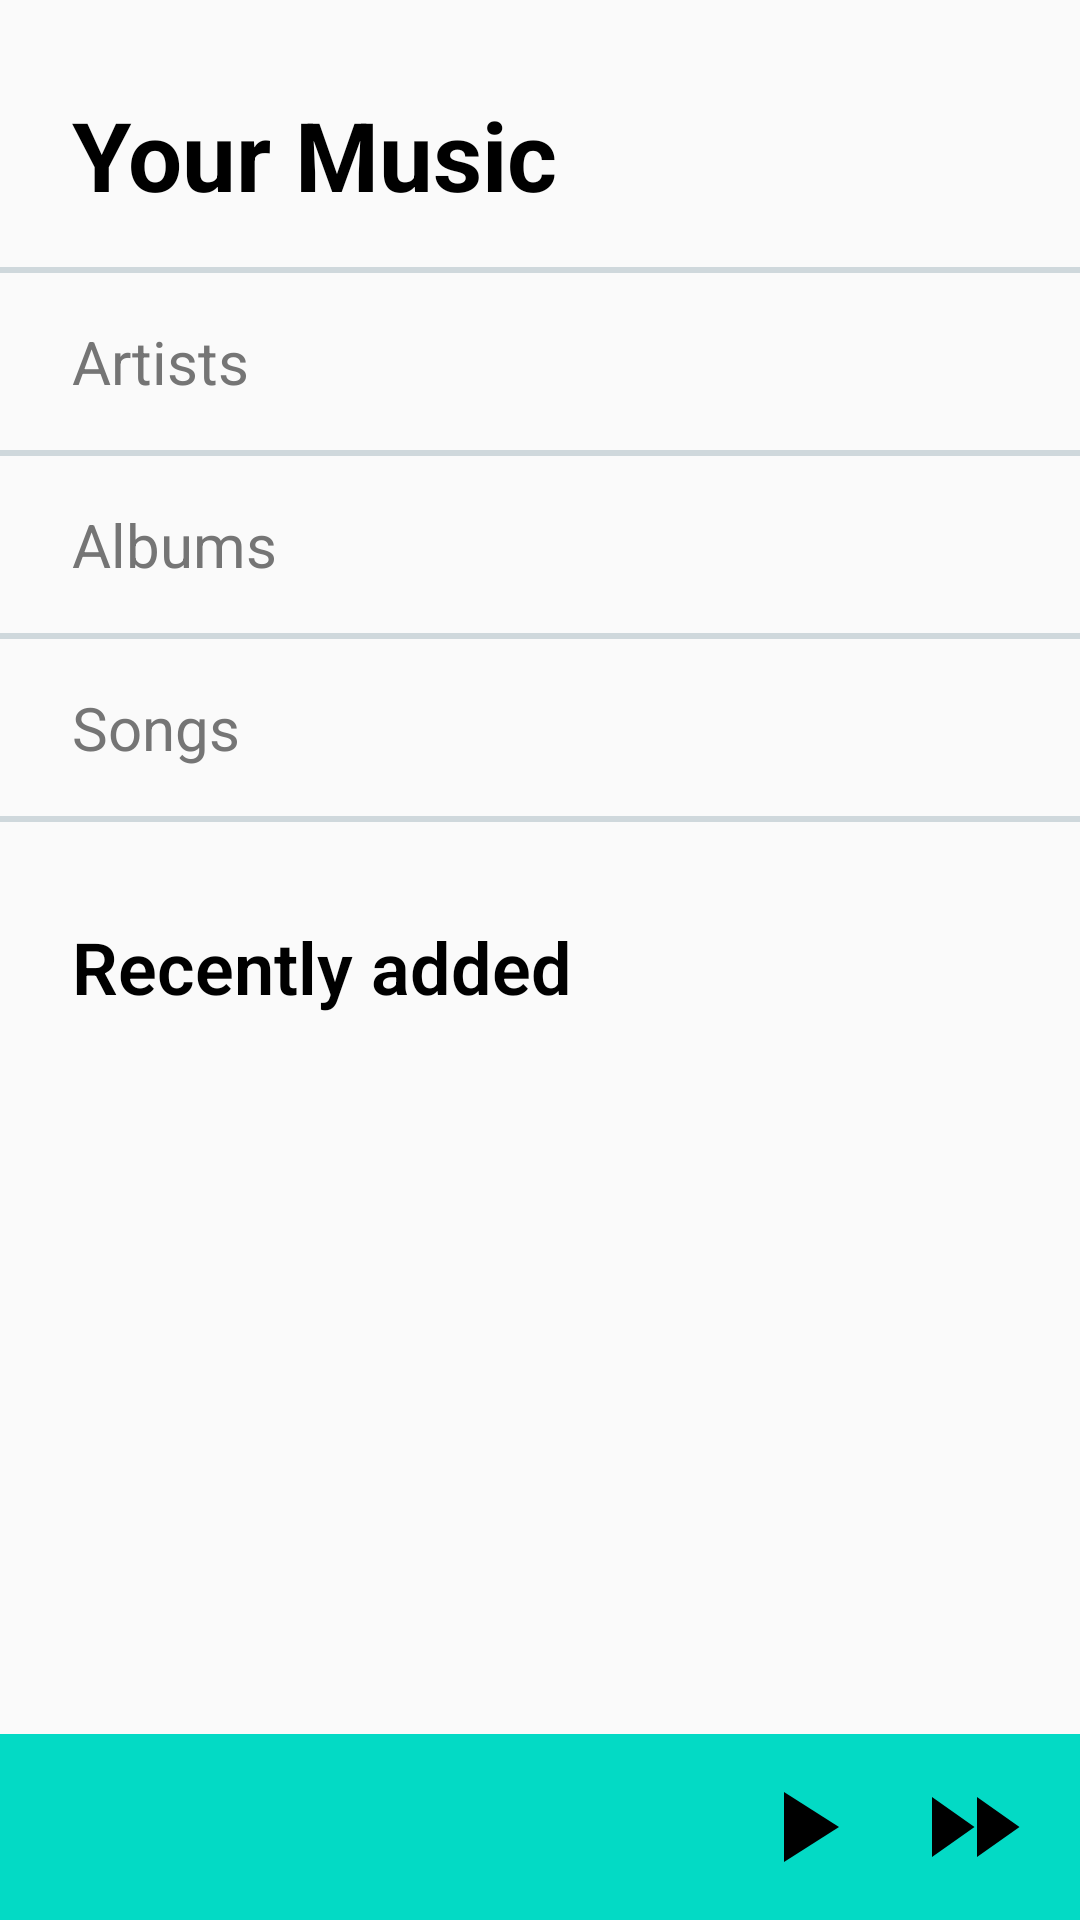

Icons on this 1080w x 1920h Android screen, each with its box as (x1, y1, x2, y2):
fast forward: (932, 1797, 1019, 1857)
play arrow: (784, 1792, 839, 1862)
